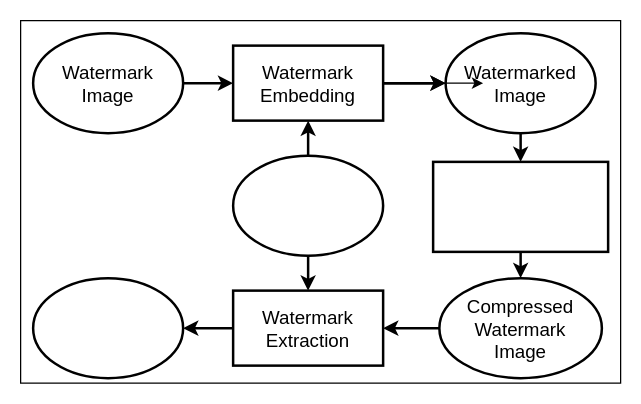
Some shapes in this 641 by 404 pixel diagram are drawn without their labels. Here are the shapes that lost their labels. From the top down, the box of each, then its label:
(231, 154, 384, 256): Original Image
(431, 160, 609, 252): Compression Coding (JPEG, JPEG-AI)
(31, 276, 184, 379): Extracted Watermark Image
